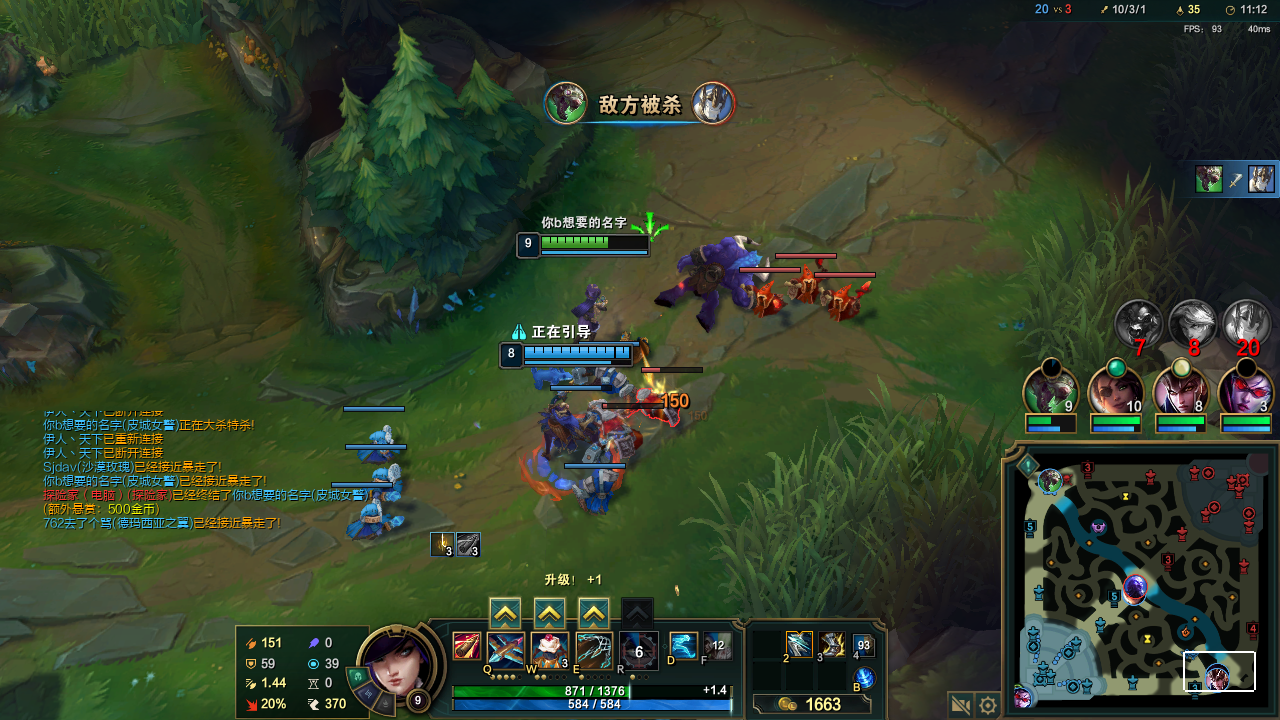DFXB: (824, 284, 867, 321), (601, 419, 639, 455), (747, 277, 776, 319), (649, 380, 677, 421), (790, 264, 820, 300)
Shenji: (537, 600, 560, 628), (493, 602, 517, 622), (582, 604, 602, 626)
WFXB: (363, 421, 404, 457), (358, 505, 401, 539), (584, 478, 625, 512), (367, 466, 409, 495)
